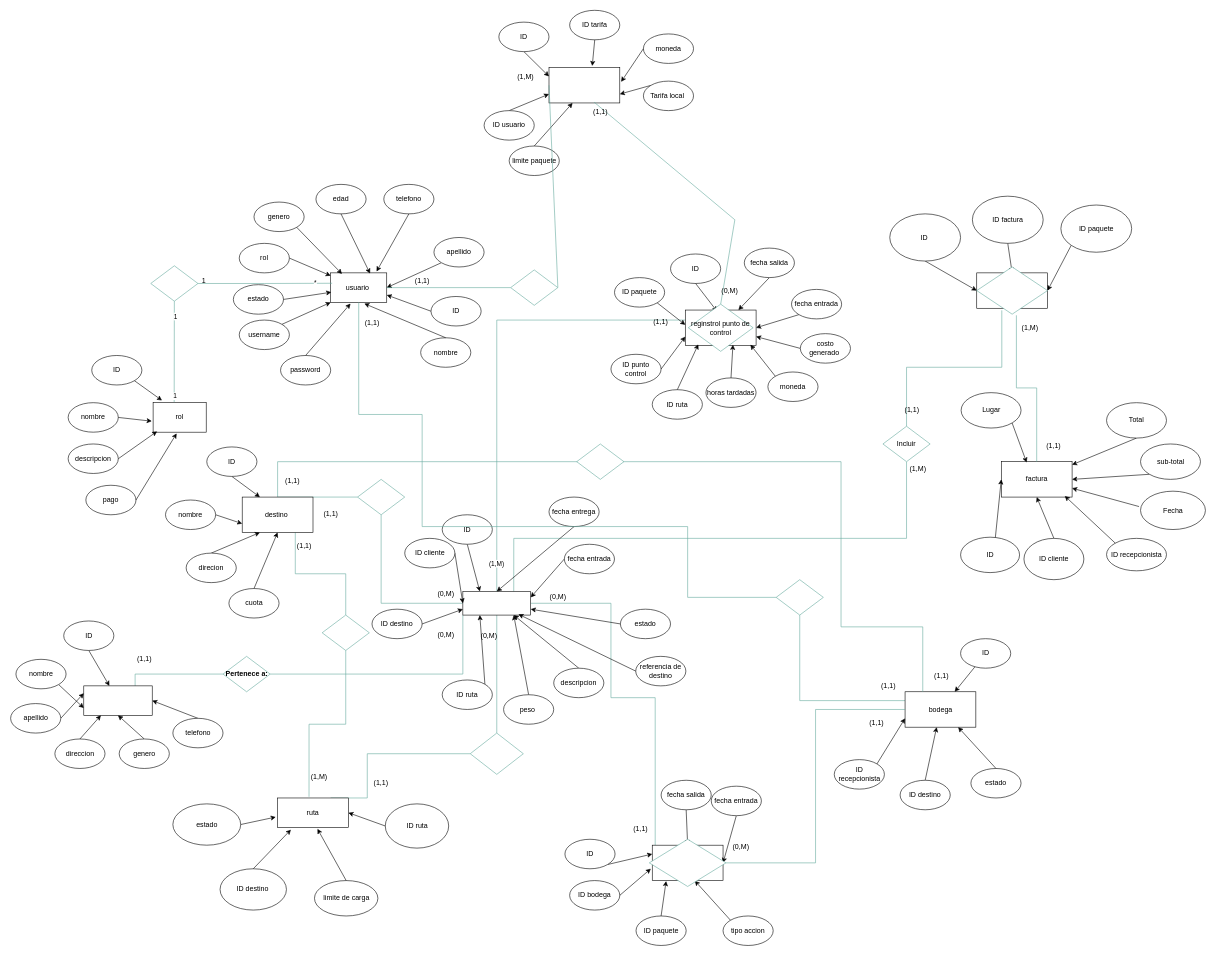
The diagram is 1216 pixels wide and 956 high, and some of its shapes have lost their labels. The centre of each missing label's shape, as x and y in pixels:
Asignado:: the point at 799,597
cliente: the point at 117,700
Conducir a:: the point at 345,632
detalle de factura: the point at 1012,290
Enviar a:: the point at 381,497
paquete: the point at 496,603
punto de control: the point at 584,85
registro bodega: the point at 687,862
tener: the point at 174,283
tiene: the point at 534,287
Trasportar por:: the point at 496,753
Ubicado en:: the point at 600,461
